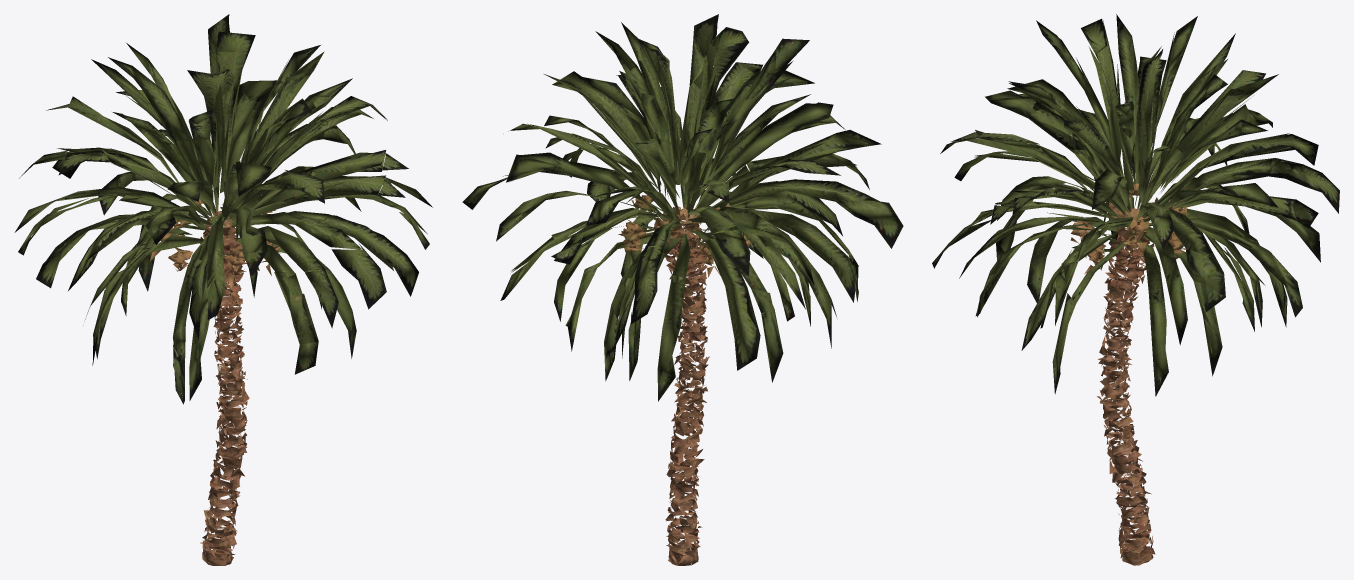
File: palm.glb
The picture shows the model from 3 angles, left to right: view 1: azimuth 30°, elevation 25°; view 2: azimuth 150°, elevation 25°; view 3: azimuth 270°, elevation 25°; orthographic projection.
Visible parts, largest first — view 1: ch1.palm.042; view 2: ch1.palm.042; view 3: ch1.palm.042.
Boxes of the visible parts, bbox=[...] form: ch1.palm.042: bbox=[14, 14, 432, 565]; ch1.palm.042: bbox=[462, 14, 903, 565]; ch1.palm.042: bbox=[932, 14, 1339, 565].
Size of the model in its own units: 0.7246 by 1 by 0.7129.
1 material, 1 textured.
